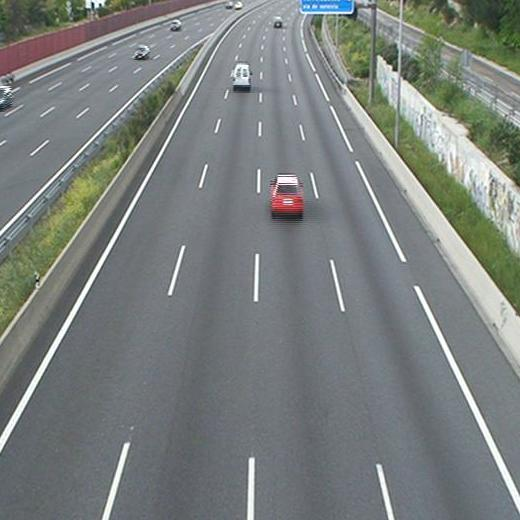car: (270, 174, 305, 220)
van: (233, 63, 252, 92)
